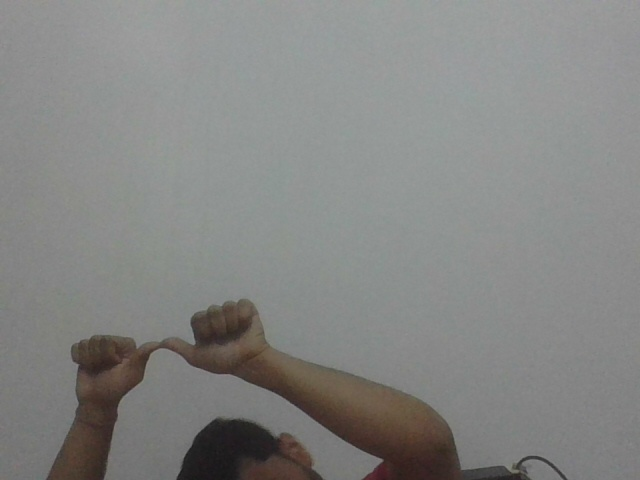A: (57, 296, 266, 404)
